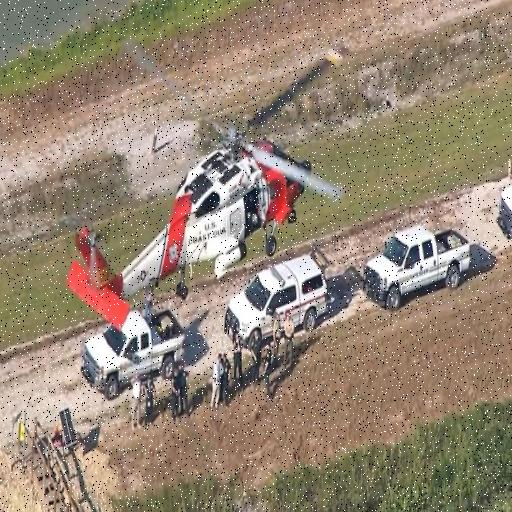helicopter: (62, 13, 361, 339)
